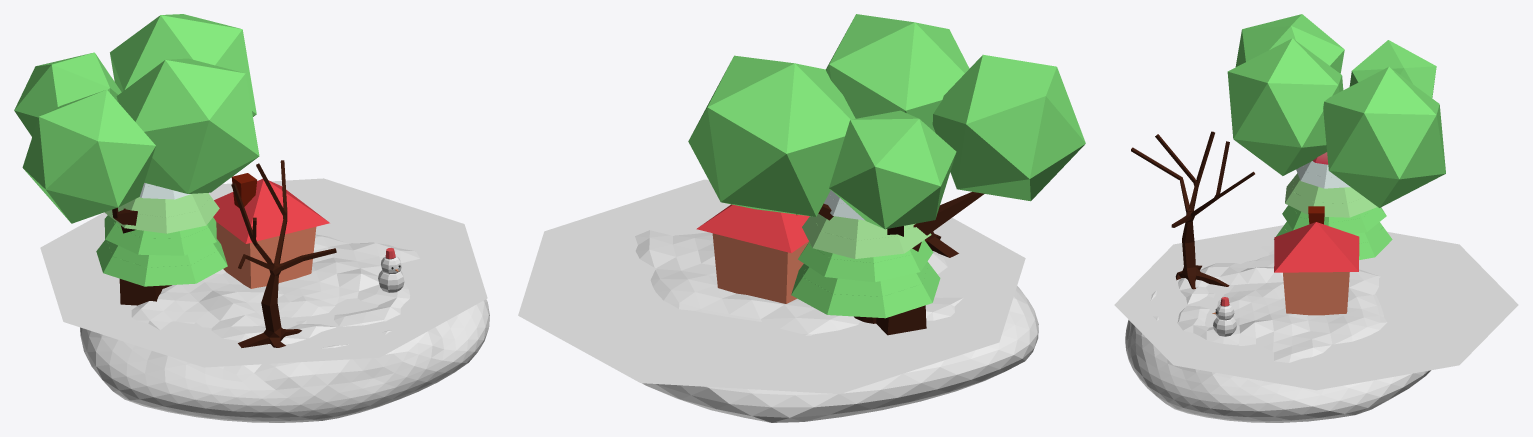
Rendered from snow.glb.
3 views of the same model, side by side, from view 1: azimuth 30°, elevation 25°; view 2: azimuth 150°, elevation 25°; view 3: azimuth 270°, elevation 25° (orthographic). The views are drawn at different scales.
Visible parts, largest first — view 1: ground, Circle, Icosphere.003, Icosphere.002, Icosphere.001, Icosphere, Cylinder.002, Cone.001, Cube, Cube.004, Cylinder.004, Cylinder.003 (+4 smaller); view 2: Circle, ground, Icosphere.001, Icosphere.002, Icosphere.003, Icosphere, Cylinder.002, Cube, Cylinder.004, Cone.001, Cylinder.003, Cube.003 (+1 smaller); view 3: Circle, ground, Icosphere.001, Icosphere.003, Cone.001, Icosphere.002, Cube.004, Cube, Icosphere, Cylinder.004, Cylinder.003, Cylinder.002 (+1 smaller).
Part boxes in pixels (x1,y1,x2,y2): ground: (80, 234, 489, 422); Circle: (40, 178, 487, 367); Icosphere.003: (116, 58, 259, 193); Icosphere.002: (22, 89, 155, 223); Icosphere.001: (110, 14, 256, 116); Icosphere: (14, 52, 121, 136); Cylinder.002: (96, 239, 227, 286); Cone.001: (213, 178, 329, 243); Cube: (216, 222, 316, 288); Cube.004: (231, 160, 336, 347); Cylinder.004: (105, 193, 219, 233); Cylinder.003: (104, 215, 216, 255); Circle: (518, 179, 1025, 394); ground: (635, 230, 1038, 422); Icosphere.001: (688, 55, 855, 216); Icosphere.002: (932, 54, 1085, 201); Icosphere.003: (826, 14, 969, 132); Icosphere: (829, 110, 956, 229); Cylinder.002: (791, 261, 940, 318); Cube: (712, 233, 809, 303); Cylinder.004: (802, 213, 931, 258); Cone.001: (696, 204, 809, 253); Cylinder.003: (798, 240, 933, 282); Cube.003: (818, 192, 984, 335); Circle: (1114, 225, 1518, 390); ground: (1125, 246, 1430, 422); Icosphere.001: (1323, 67, 1445, 207); Icosphere.003: (1227, 38, 1343, 175); Cone.001: (1274, 222, 1359, 272); Icosphere.002: (1235, 14, 1344, 73); Cube.004: (1131, 131, 1254, 289); Cube: (1283, 272, 1349, 315); Icosphere: (1349, 40, 1436, 97); Cylinder.004: (1285, 173, 1377, 217); Cylinder.003: (1282, 205, 1386, 234); Cylinder.002: (1274, 221, 1392, 259).
Size of the model in its own units: 37.63 by 27.3 by 33.69.
